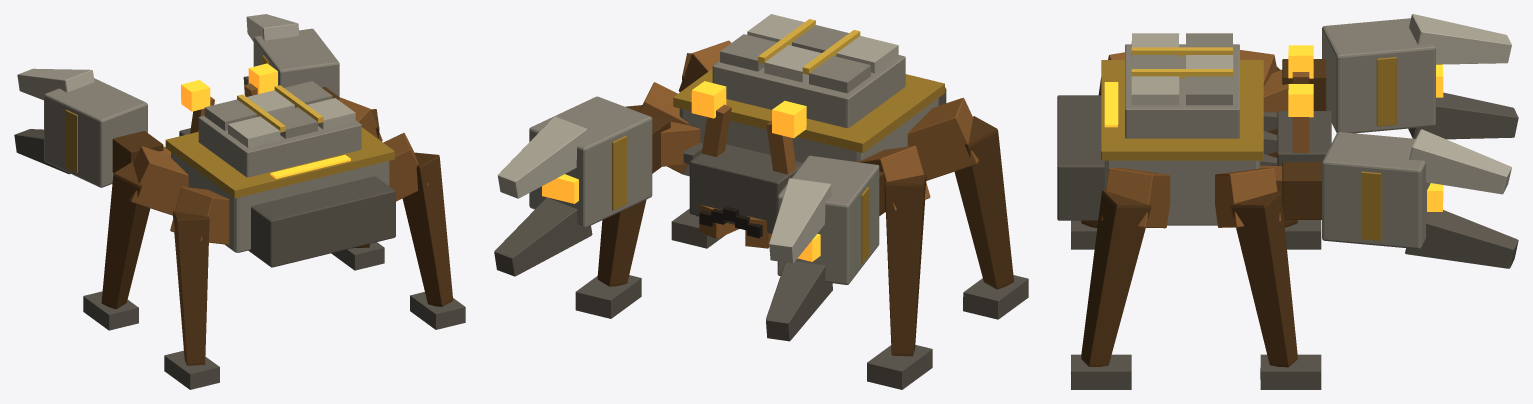
Rendered from crustacia.glb.
3 renders of one model, left to right at view 1: azimuth 30°, elevation 25°; view 2: azimuth 150°, elevation 25°; view 3: azimuth 270°, elevation 25°, orthographic. The views are drawn at different scales.
Parts seen in each view (by area): view 1: body, arm.R, leg.FR, leg.BR, leg.BL, arm.L, head, leg.FL; view 2: body, arm.L, arm.R, head, leg.BR, leg.FR, leg.FL, leg.BL; view 3: body, arm.L, arm.R, leg.BL, leg.FL, head, leg.FR, leg.BR.
Part boxes in pixels (x1,y1,x2,y2): body: (165, 81, 395, 267); arm.R: (14, 68, 170, 187); leg.FR: (83, 146, 188, 330); leg.BR: (164, 187, 229, 389); leg.BL: (383, 133, 465, 329); arm.L: (243, 14, 339, 99); head: (179, 63, 277, 136); leg.FL: (331, 97, 384, 270); body: (673, 14, 946, 176); arm.L: (494, 96, 700, 276); arm.R: (766, 155, 884, 341); head: (689, 81, 806, 248); leg.BR: (907, 97, 1028, 319); leg.FR: (855, 145, 932, 389); leg.FL: (575, 82, 689, 318); leg.BL: (671, 40, 730, 248); body: (1057, 33, 1277, 225); arm.L: (1260, 129, 1518, 268); arm.R: (1263, 14, 1518, 139); leg.BL: (1071, 167, 1170, 389); leg.FL: (1215, 168, 1321, 389); head: (1277, 45, 1331, 165); leg.FR: (1240, 50, 1321, 249); leg.BR: (1071, 52, 1124, 249).
Bounding box in the file's own units: 1.34 × 1 × 1.66.
